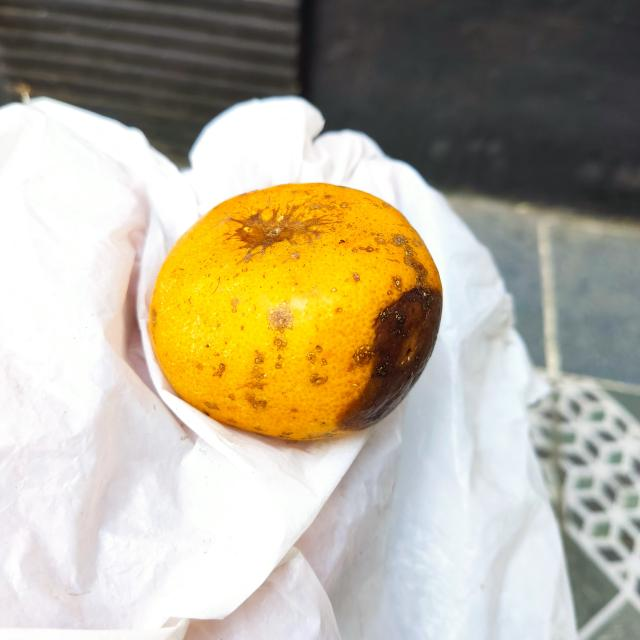orange: (146, 182, 442, 443)
